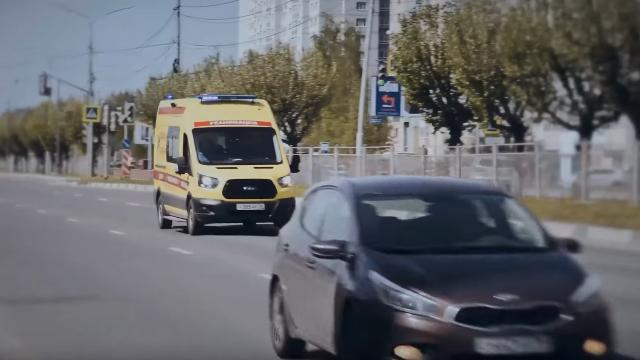intensive care unit: (154, 93, 298, 238)
non emergency car: (267, 175, 619, 360)
